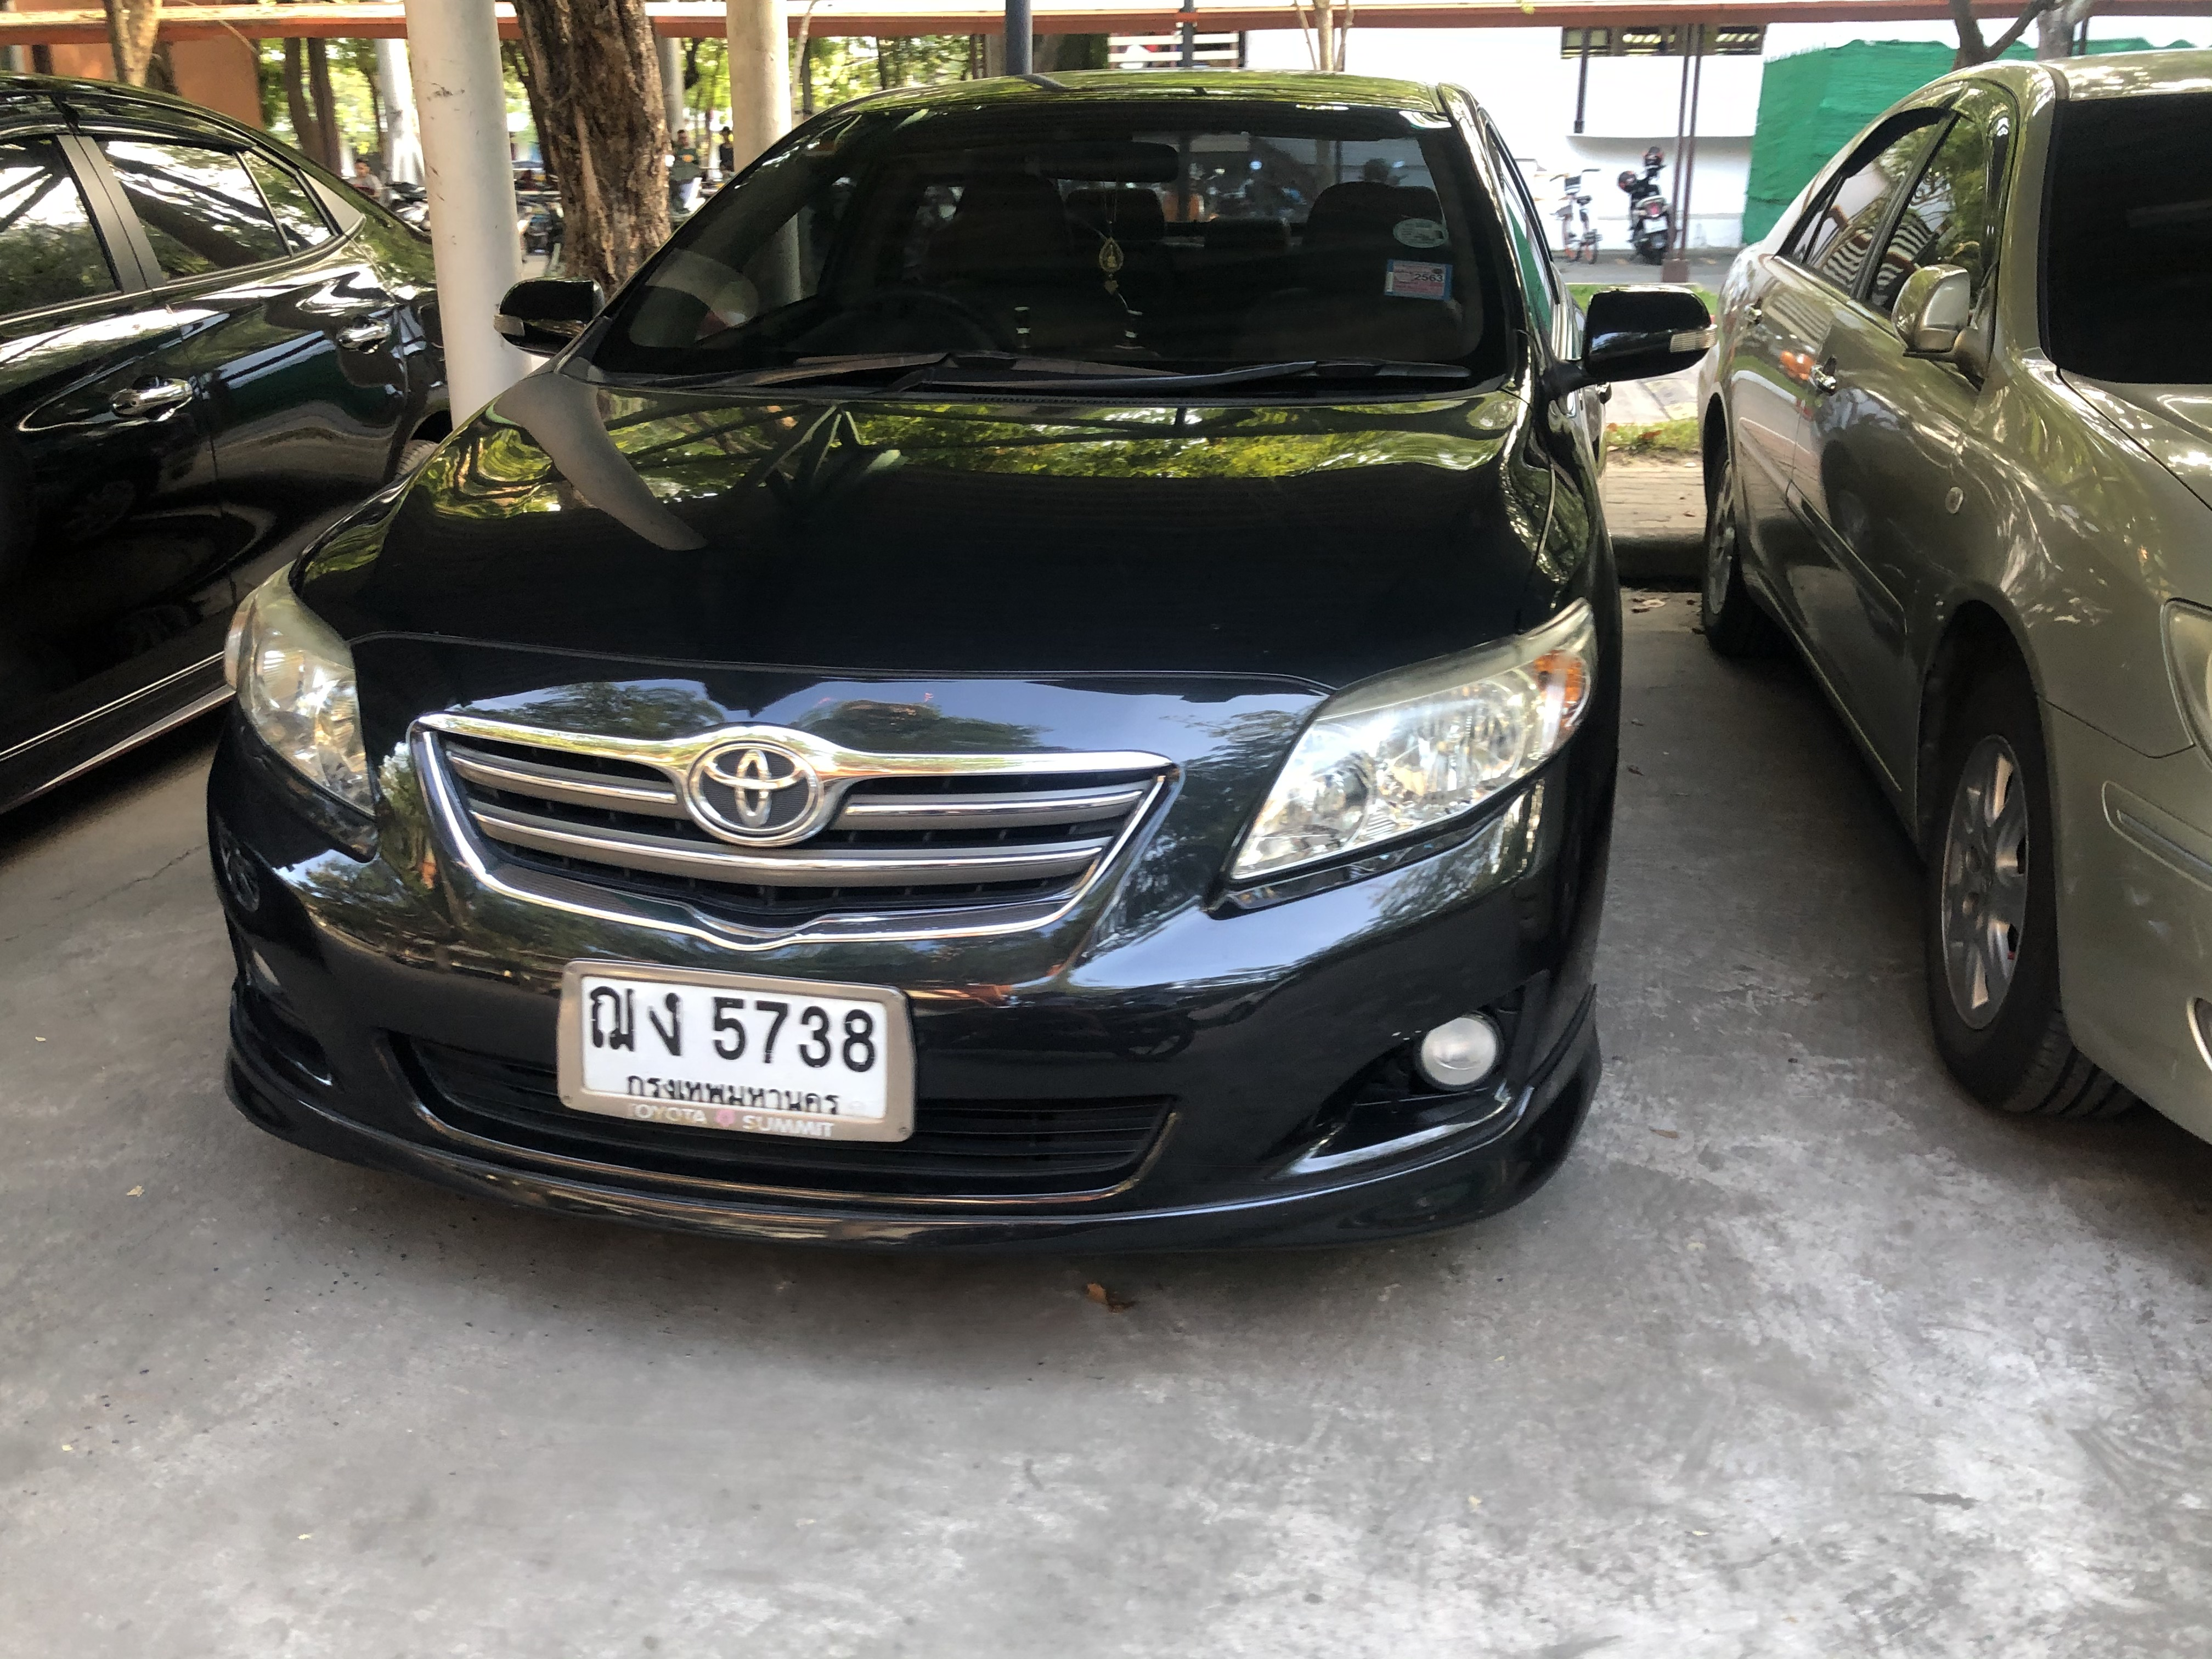in: (580, 976, 888, 1126)
out: (550, 953, 918, 1145)
